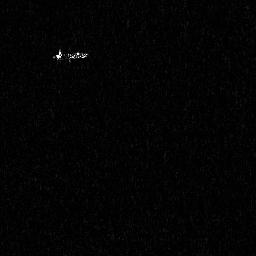ship: (50, 46, 90, 68)
